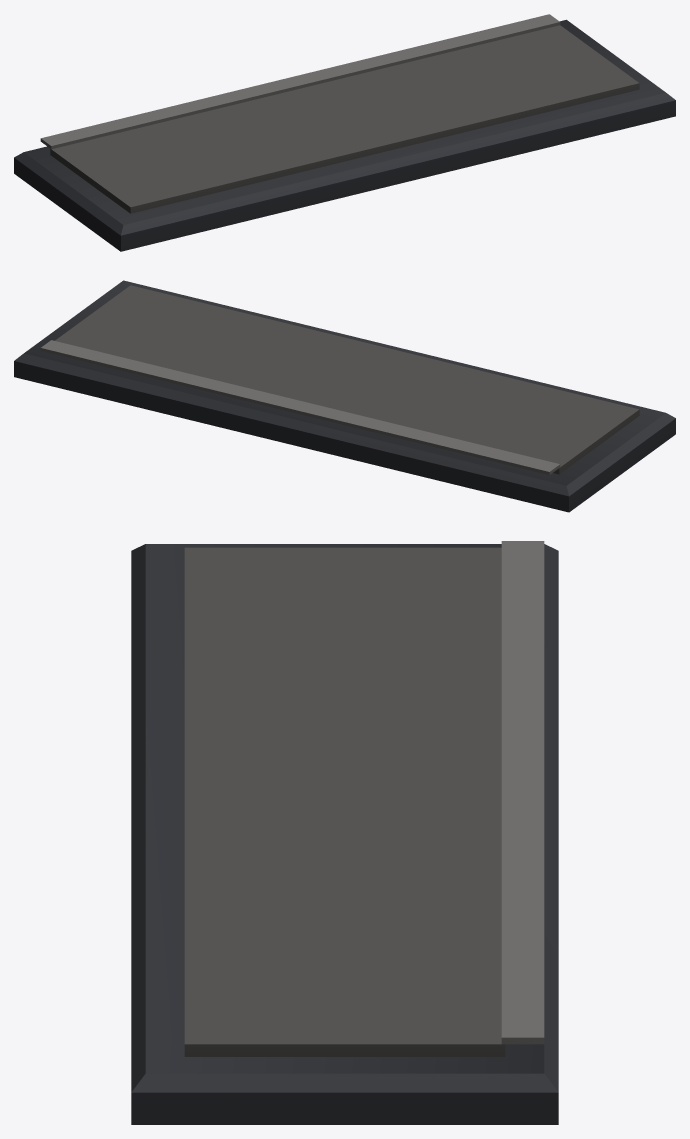
File: keyboard_01.glb
The picture shows the model from 3 angles, top to bottom: view 1: azimuth 30°, elevation 25°; view 2: azimuth 150°, elevation 25°; view 3: azimuth 270°, elevation 25°; orthographic projection. The views are drawn at different scales.
Visible parts, largest first — view 1: keyboard_01_mesh; view 2: keyboard_01_mesh; view 3: keyboard_01_mesh.
Part boxes in pixels (box(x1,y1,x2,y2)): keyboard_01_mesh: box(14, 14, 675, 251); keyboard_01_mesh: box(14, 280, 675, 512); keyboard_01_mesh: box(131, 541, 558, 1124).
Size of the model in its own units: 0.36 by 0.02 by 0.12.
1 material, 1 textured.
